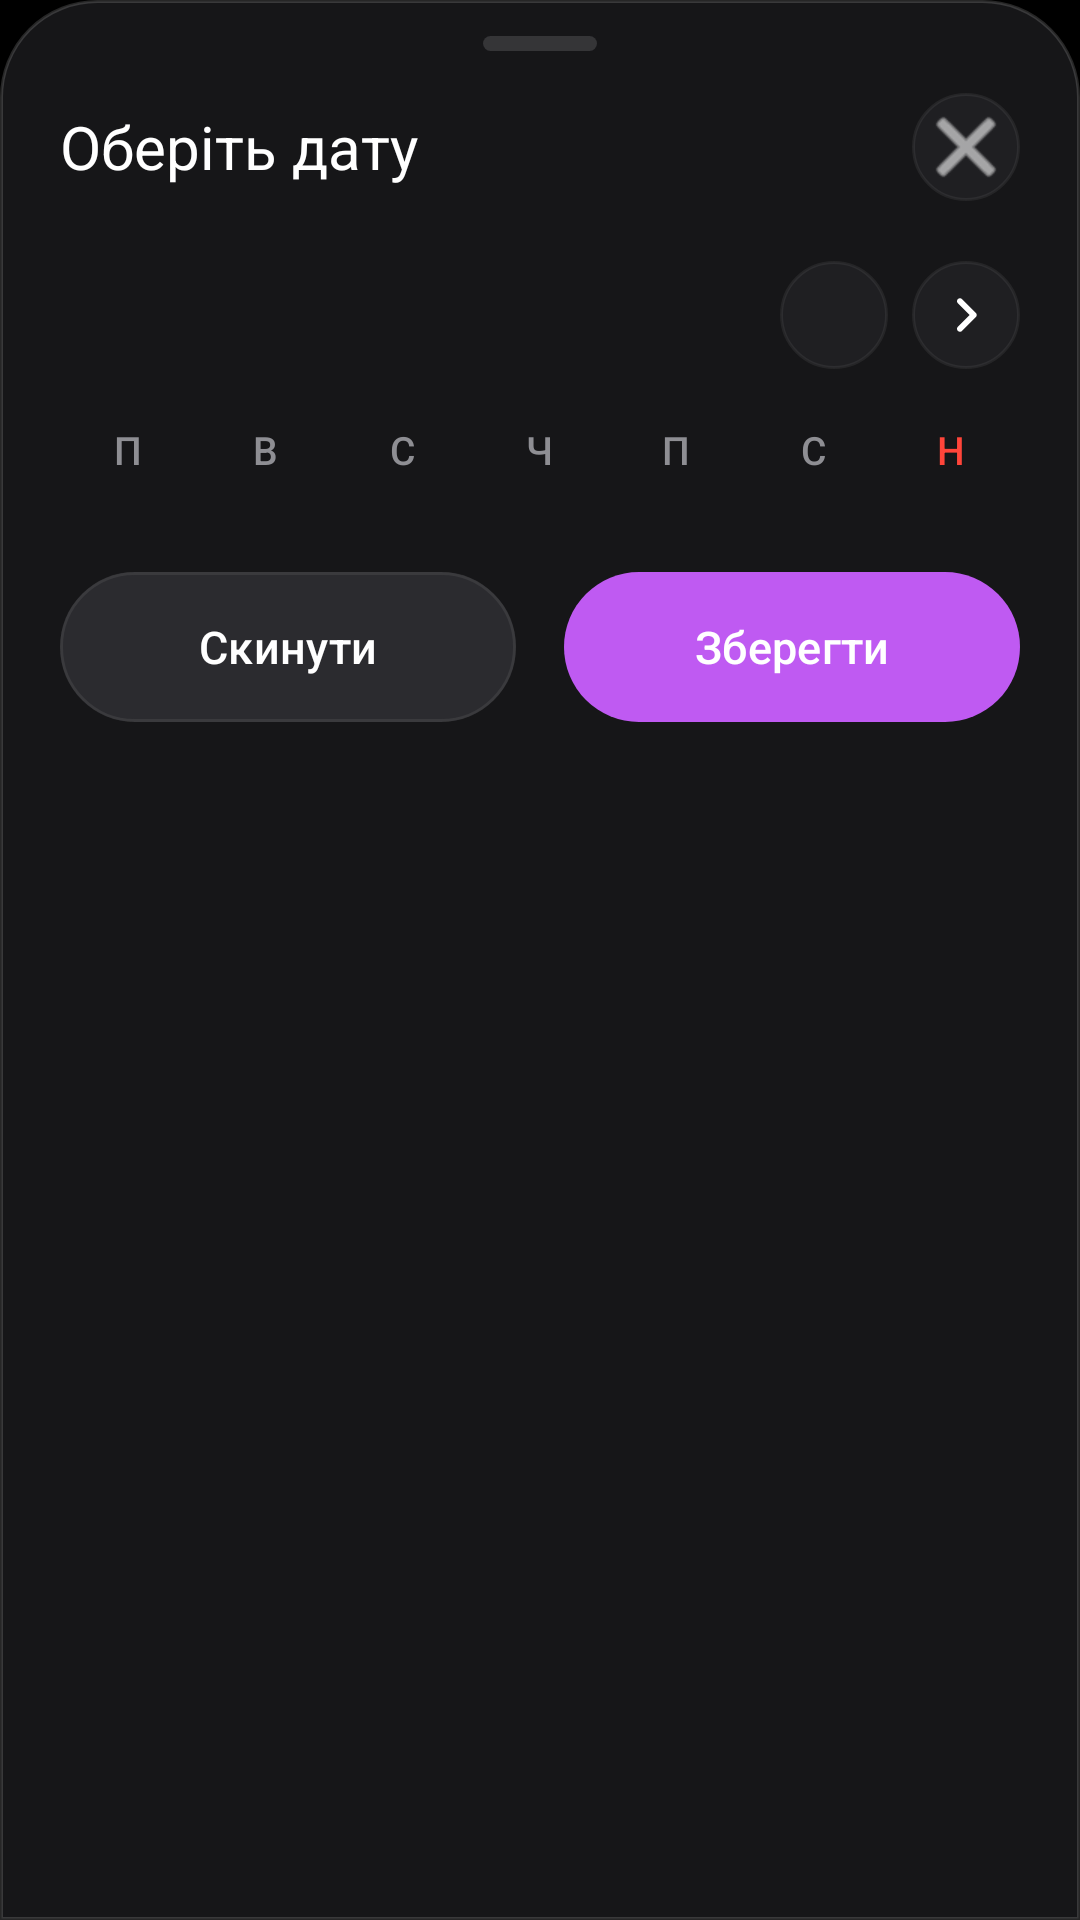

Named icons in this screenshot (1080×1920) and their centers, (x,y):
chevron right: (966,315)
close clear cancel: (966,147)
